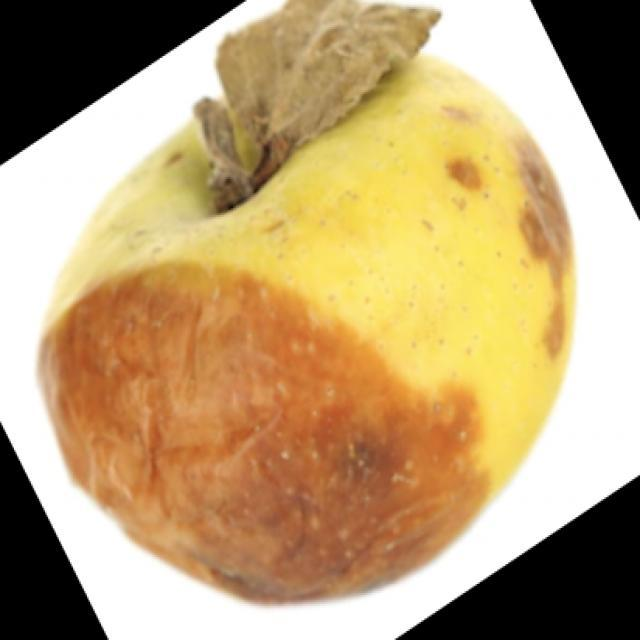Rotten: (65, 62, 585, 585)
